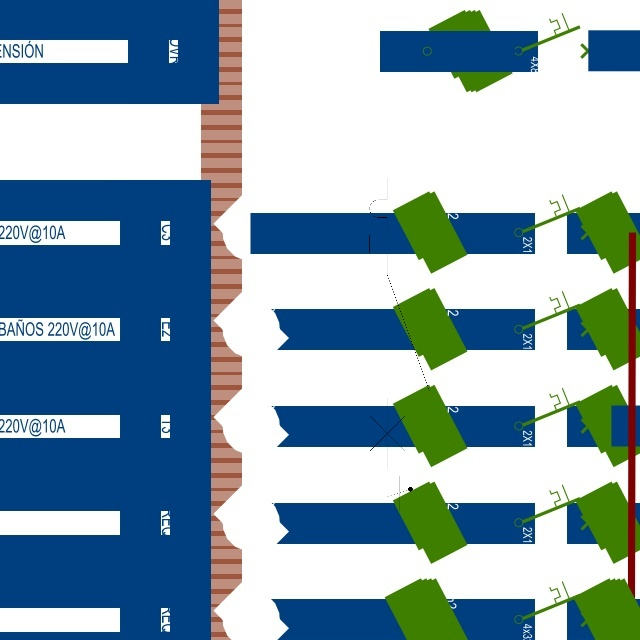interruptor_termomagnetico: (362, 170, 437, 476)
